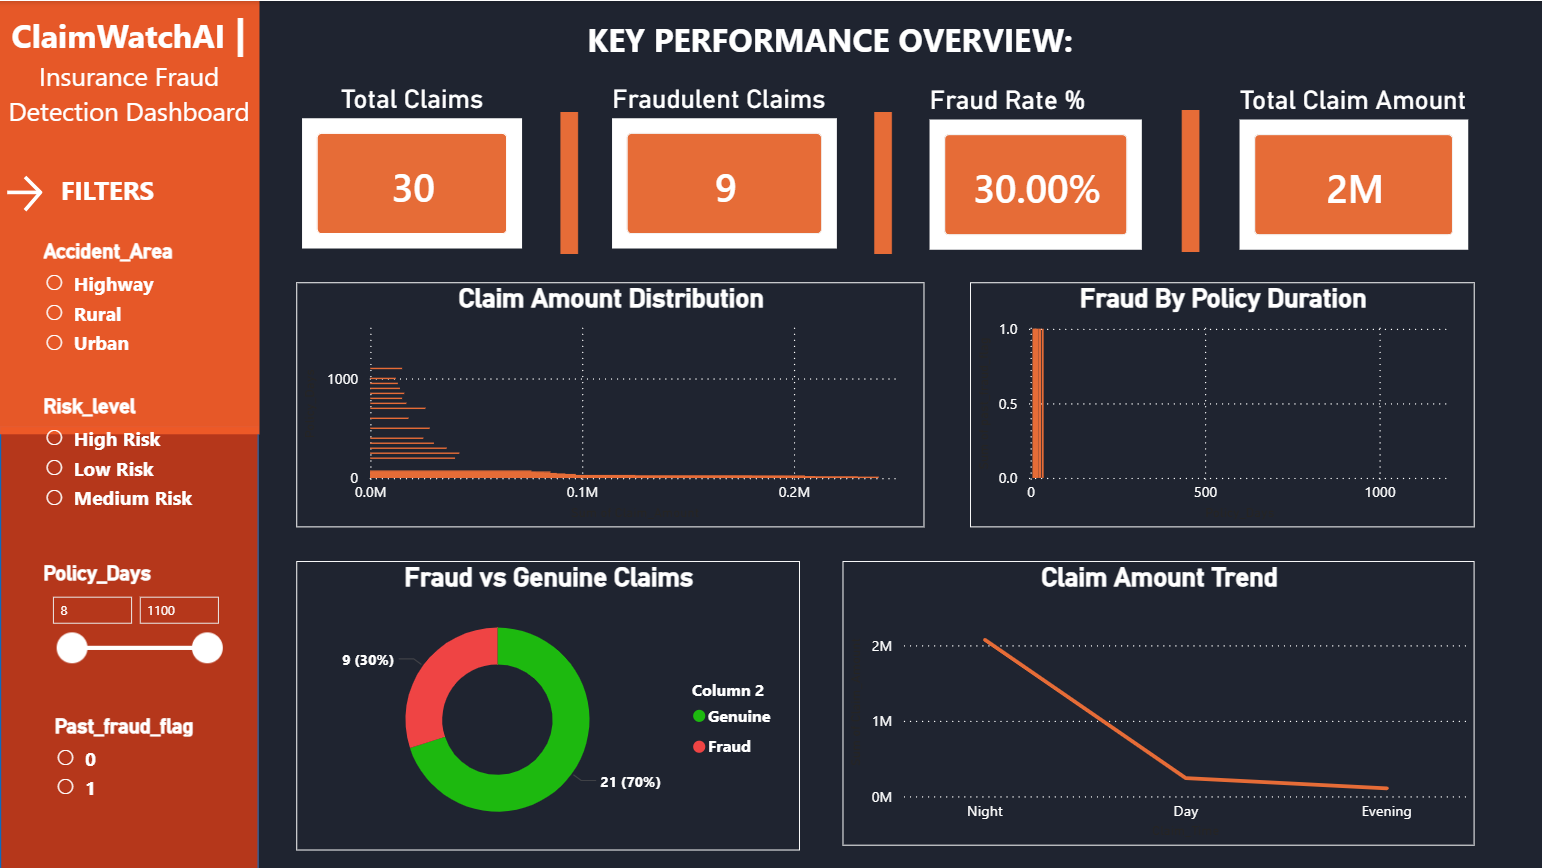

Layout of this report page (visuals, bound fields, positions):
{"tool":"powerbi","page":{"name":"Page 1","canvas":[1280,720],"ordinal":0},"visuals":[{"type":"shape","box":[0,351.9,214.5,367.6],"z":0},{"type":"shape","box":[0,0,215.1,359.3],"z":1000},{"type":"textbox","box":[0,0,214,123.3],"z":2000},{"type":"textbox","box":[45.3,137.2,215.1,43],"z":3000},{"type":"listSlicer","fields":{"Values":["Table1.Accident_Area"]},"box":[31.4,196.5,161.6,104.7],"z":4000},{"type":"slicer","title":"Policy_Days","fields":{"Values":["Table1.Policy_Days"]},"box":[31.4,464,161.6,94.2],"z":5000},{"type":"listSlicer","fields":{"Values":["Table1.Risk_level"]},"box":[31.4,325.6,147.7,104.7],"z":6000},{"type":"listSlicer","title":"Past_fraud_flag","fields":{"Values":["Table1.past_fraud_flag"]},"box":[40.7,590.7,173.3,77.9],"z":7000},{"type":"actionButton","box":[0,139.5,100,39.5],"z":8000},{"type":"cardVisual","title":"Total Claims","fields":{"Data":["CountNonNull(Table1.Claim_ID)"]},"box":[245.6,68.6,192.1,142.7],"z":9000},{"type":"cardVisual","title":"Fraudulent Claims","fields":{"Data":["Sum(Table1.past_fraud_flag)"]},"box":[502.2,68.6,196.2,142.7],"z":10000},{"type":"cardVisual","title":"Total Claim Amount","fields":{"Data":["Sum(Table1.Claim_Amount)"]},"box":[1023.3,68.9,199.7,142.5],"z":11000},{"type":"cardVisual","title":"Fraud Rate %","fields":{"Data":["Avg(Table1.past_fraud_flag)"]},"box":[766.3,68.9,186.9,142.5],"z":12000},{"type":"textbox","box":[481.6,8.2,433.6,150.9],"z":13000},{"type":"textbox","box":[447.3,50.8,192.1,194.9],"z":14000},{"type":"textbox","box":[708.1,50.8,192.1,367.8],"z":15000},{"type":"textbox","box":[962.5,50.2,191.6,368],"z":16000},{"type":"donutChart","title":"Fraud vs Genuine Claims","fields":{"Y":["CountNonNull(Table1.Claim_ID)"],"Category":["Table1.Column 2"]},"box":[245.7,464.4,417.3,239.8],"z":17000},{"type":"clusteredColumnChart","title":"Fraud By Policy Duration","fields":{"Y":["Sum(Table1.past_fraud_flag)"],"Category":["Table1.Policy_Days"]},"box":[804.1,232.8,418.5,203.4],"z":18000},{"type":"clusteredBarChart","title":"Claim Amount Distribution","fields":{"Category":["Table1.Policy_Days"],"Y":["Sum(Table1.Claim_Amount)"]},"box":[245.7,232.8,520.8,203.4],"z":19000},{"type":"lineChart","title":"Claim Amount Trend","fields":{"Y":["Sum(Table1.Claim_Amount)"],"Category":["Table1.Claim_Time"]},"box":[698.3,464.4,524.3,236.3],"z":20000}]}

Visuals, with their boxes in screenshot pixels (x1, y1, x2, y2), scaled from the page's 1280x720 canvas onto the 1542x868 screenshot:
shape: x1=0, y1=424, x2=258, y2=867
shape: x1=0, y1=0, x2=259, y2=433
textbox: x1=0, y1=0, x2=258, y2=149
textbox: x1=55, y1=165, x2=314, y2=217
listSlicer - Table1.Accident_Area: x1=38, y1=237, x2=233, y2=363
"Policy_Days" slicer: x1=38, y1=559, x2=233, y2=673
listSlicer - Table1.Risk_level: x1=38, y1=393, x2=216, y2=519
"Past_fraud_flag" listSlicer: x1=49, y1=712, x2=258, y2=806
actionButton: x1=0, y1=168, x2=120, y2=216
"Total Claims" cardVisual: x1=296, y1=83, x2=527, y2=255
"Fraudulent Claims" cardVisual: x1=605, y1=83, x2=841, y2=255
"Total Claim Amount" cardVisual: x1=1233, y1=83, x2=1473, y2=255
"Fraud Rate %" cardVisual: x1=923, y1=83, x2=1148, y2=255
textbox: x1=580, y1=10, x2=1103, y2=192
textbox: x1=539, y1=61, x2=770, y2=296
textbox: x1=853, y1=61, x2=1084, y2=505
textbox: x1=1160, y1=61, x2=1390, y2=504
"Fraud vs Genuine Claims" donutChart: x1=296, y1=560, x2=799, y2=849
"Fraud By Policy Duration" clusteredColumnChart: x1=969, y1=281, x2=1473, y2=526
"Claim Amount Distribution" clusteredBarChart: x1=296, y1=281, x2=923, y2=526
"Claim Amount Trend" lineChart: x1=841, y1=560, x2=1473, y2=845
